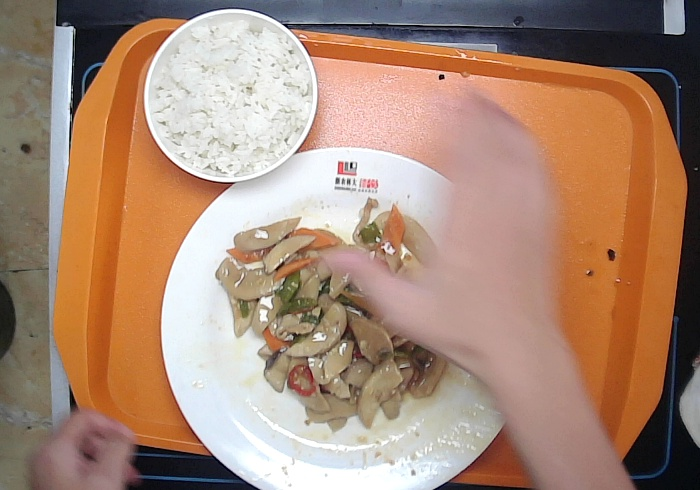ZNLD-Da_Yuan_Pan: (159, 145, 508, 490)
ZNLD-Fan_Wan: (141, 6, 318, 184)
